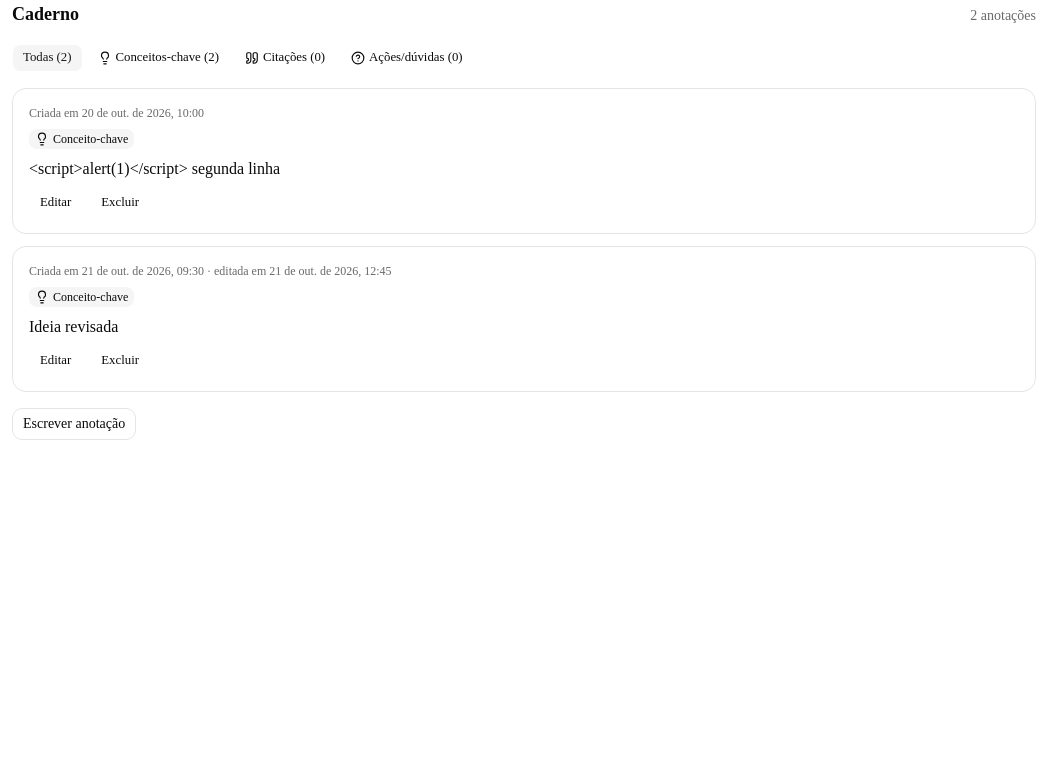
Test case: Notebook › closes an untouched new note without saving
Click the button "Escrever anotação" at (74, 424), box [12,408,136,440]
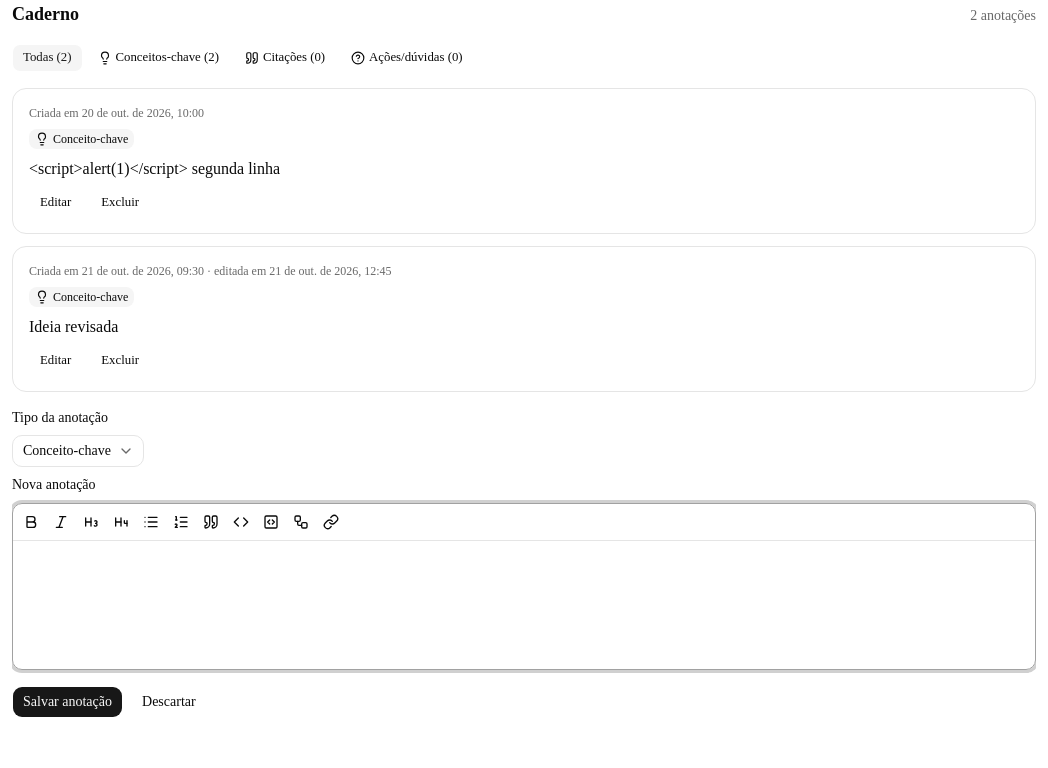
Click the button "Salvar anotação" at (68, 702), box [12,686,123,718]
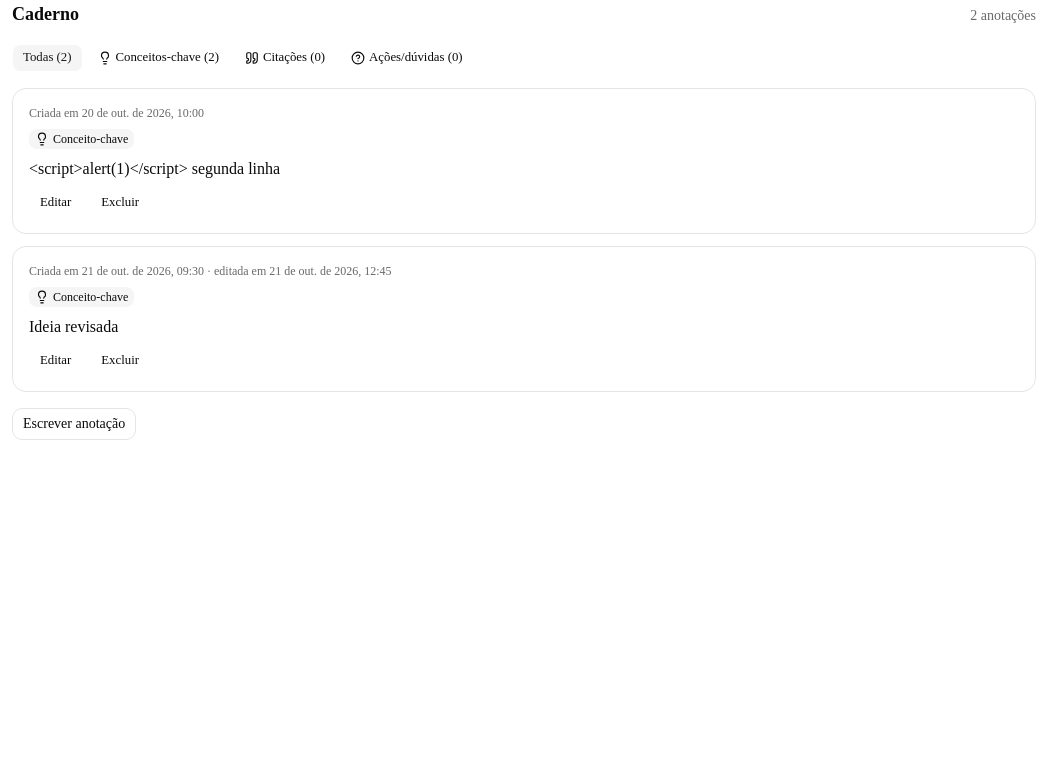
Expected: the text labelled "Nova anotação" is gone
